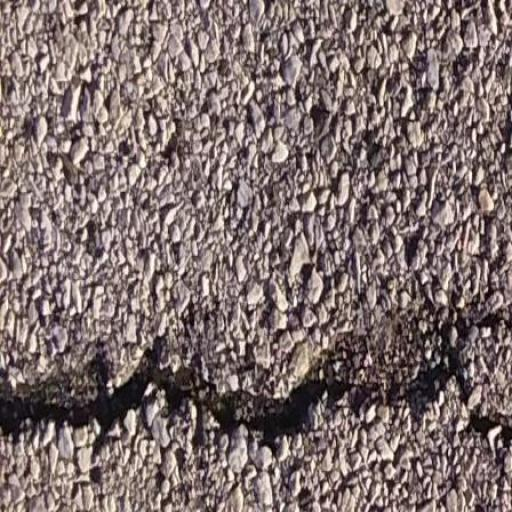spalling: (9, 305, 509, 469)
